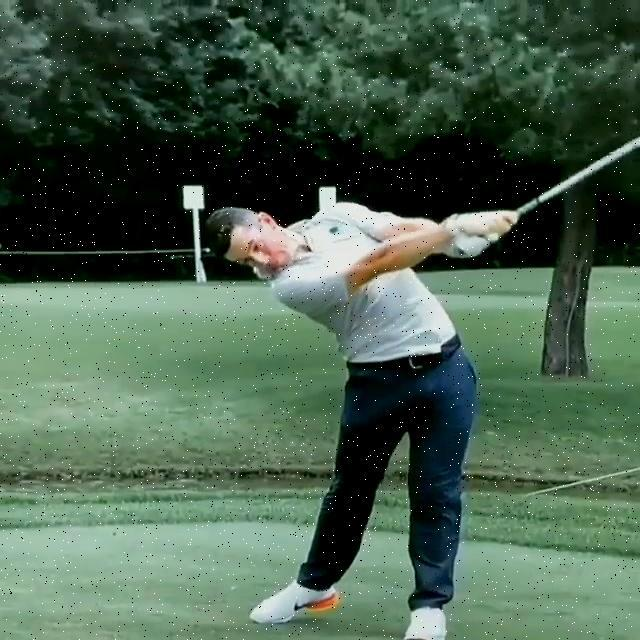golf club-handle: (457, 135, 640, 263)
